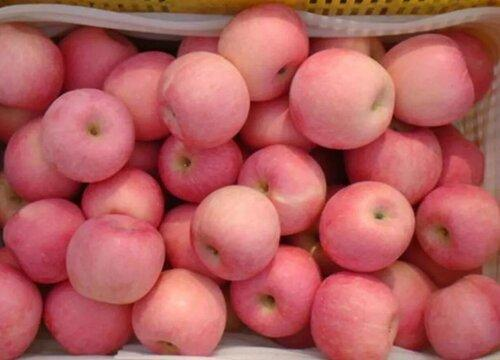apple: (288, 46, 393, 150), (215, 2, 308, 103), (225, 245, 321, 341), (39, 88, 136, 183), (317, 179, 413, 274), (188, 185, 282, 282), (159, 51, 250, 149), (65, 216, 165, 304), (384, 31, 476, 126), (129, 267, 227, 353), (237, 145, 327, 236), (413, 183, 500, 275), (312, 272, 401, 360), (4, 197, 88, 286), (421, 275, 500, 359), (101, 49, 173, 138), (157, 137, 243, 200)
